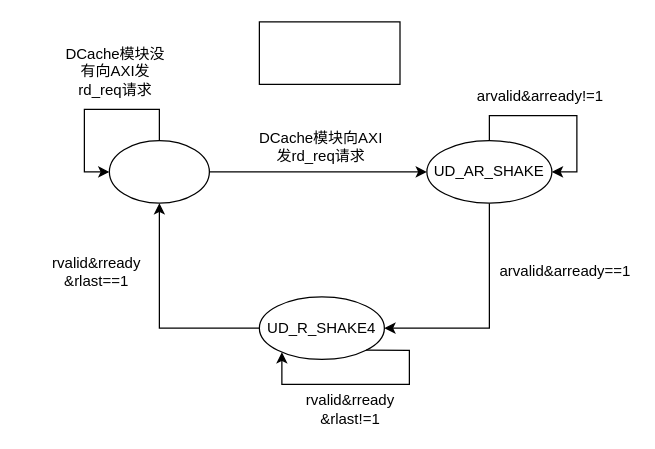
Some shapes in this 655 by 449 pixel diagram are drawn without their labels. The shapes that lost their labels are listed below. From the top down, each one's box as (x1, y1, x2, y2) in pixels, then its label:
(258, 21, 400, 84): AXI模块，Uncache(DCache)读状态机
(108, 139, 209, 203): UD_RD_IDLE
